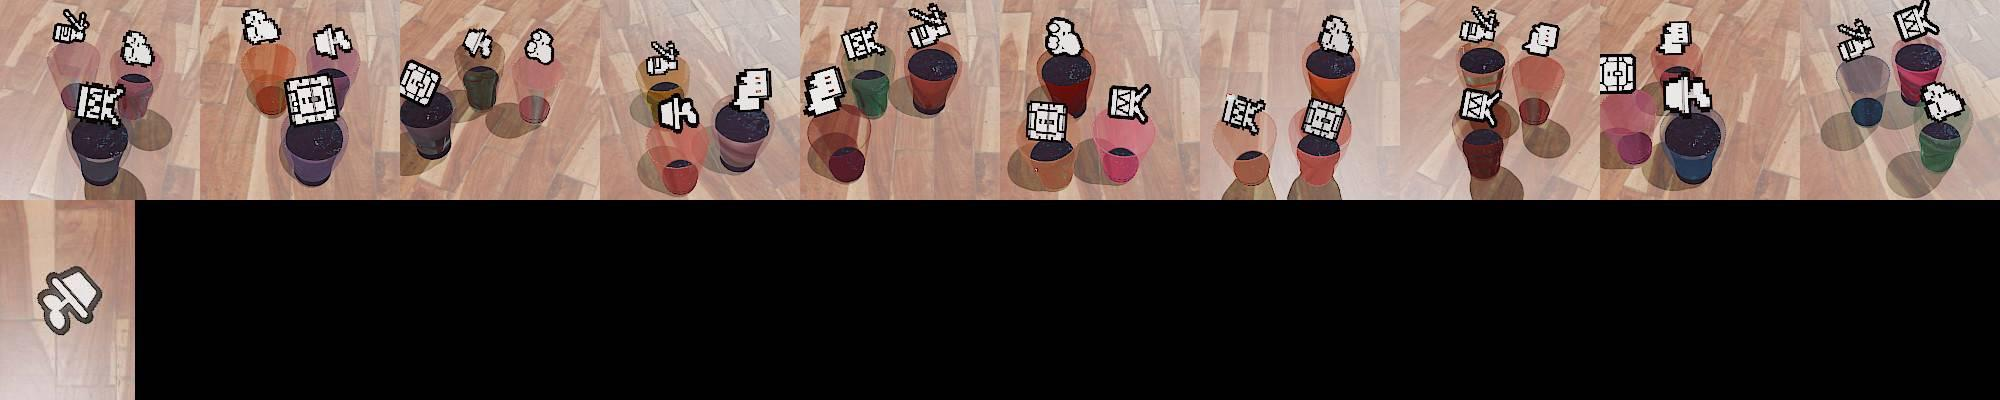icon: (34, 262, 105, 334), (283, 71, 342, 127), (802, 66, 847, 118), (73, 80, 126, 124), (1300, 97, 1348, 143), (1662, 73, 1712, 117), (907, 5, 952, 51), (398, 60, 441, 107), (1026, 99, 1070, 144), (1893, 0, 1940, 42), (841, 19, 886, 61), (1835, 19, 1878, 64), (1106, 83, 1152, 124), (1043, 15, 1085, 59), (1921, 82, 1966, 122), (1219, 93, 1264, 134), (732, 66, 772, 112), (1459, 5, 1503, 46), (1597, 52, 1636, 96), (657, 93, 700, 132), (1458, 87, 1501, 126), (240, 8, 282, 46), (1522, 20, 1562, 59), (1318, 15, 1355, 56), (52, 8, 91, 46), (312, 23, 352, 60), (645, 37, 681, 76), (1657, 19, 1693, 57), (120, 28, 154, 68), (523, 28, 555, 65), (462, 27, 495, 60)
